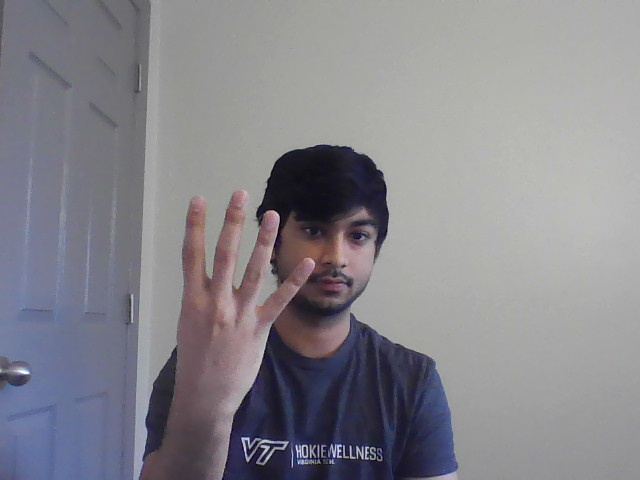four: (155, 181, 317, 402)
